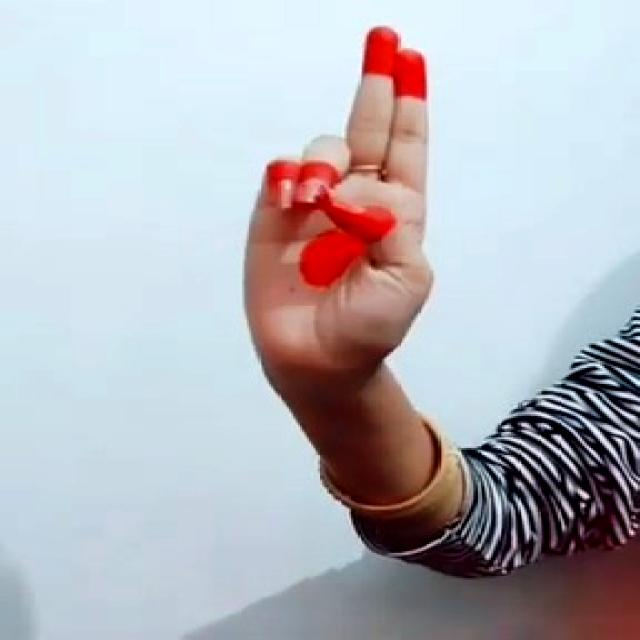Ardhapataka: (208, 7, 482, 395)
bangle: (305, 410, 492, 524)
